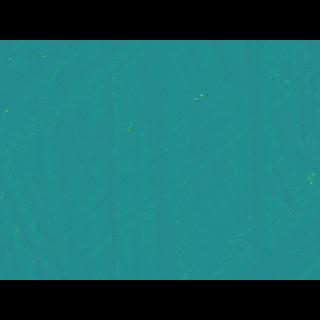Loch: (32, 77, 294, 228)
